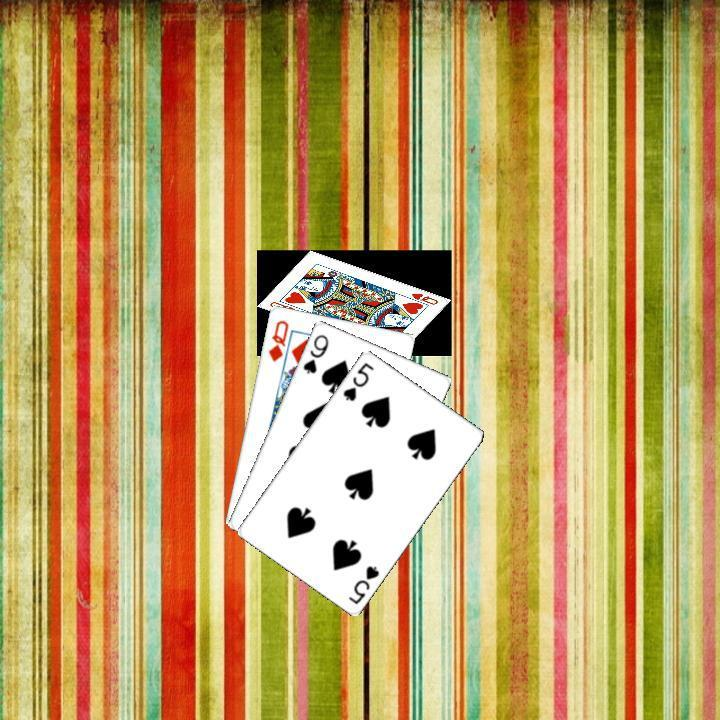5: (338, 358, 376, 403), (344, 561, 381, 606)
9: (298, 330, 330, 376)
Q: (263, 315, 290, 363)
